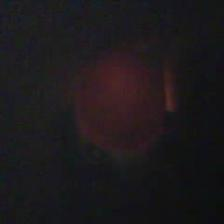fertile: (69, 50, 168, 158)
